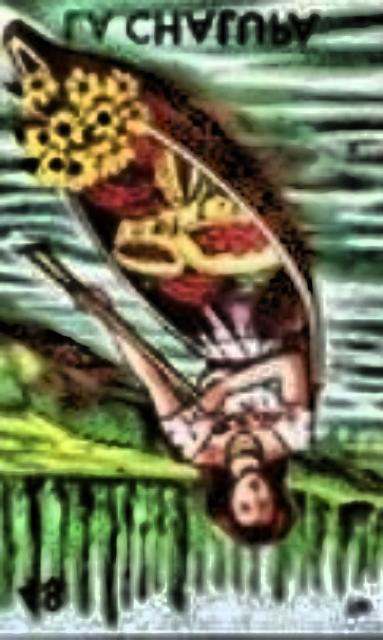La Chalupa: (1, 0, 383, 640)
